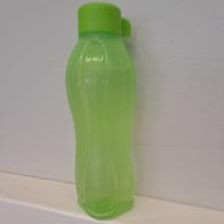bottle: (65, 1, 141, 219)
